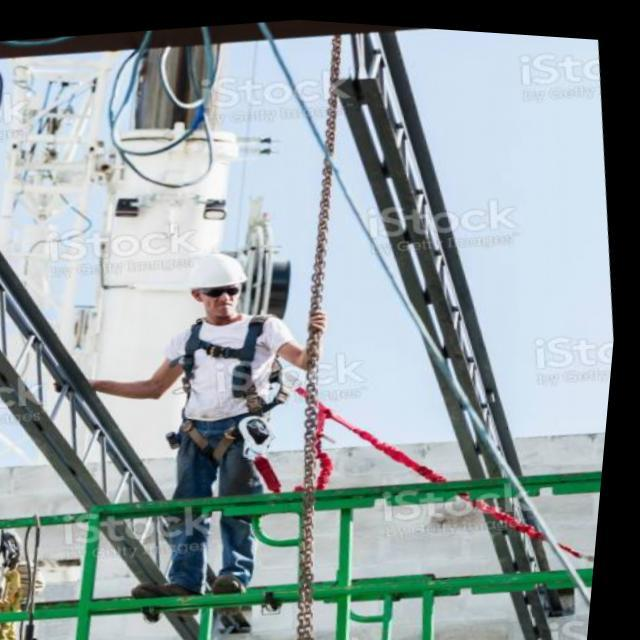belt: (152, 297, 308, 475)
